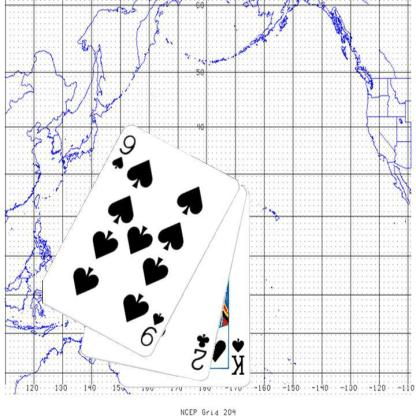2C: (188, 331, 211, 372)
9S: (109, 132, 138, 171), (137, 310, 166, 348)
KS: (230, 336, 246, 376)
